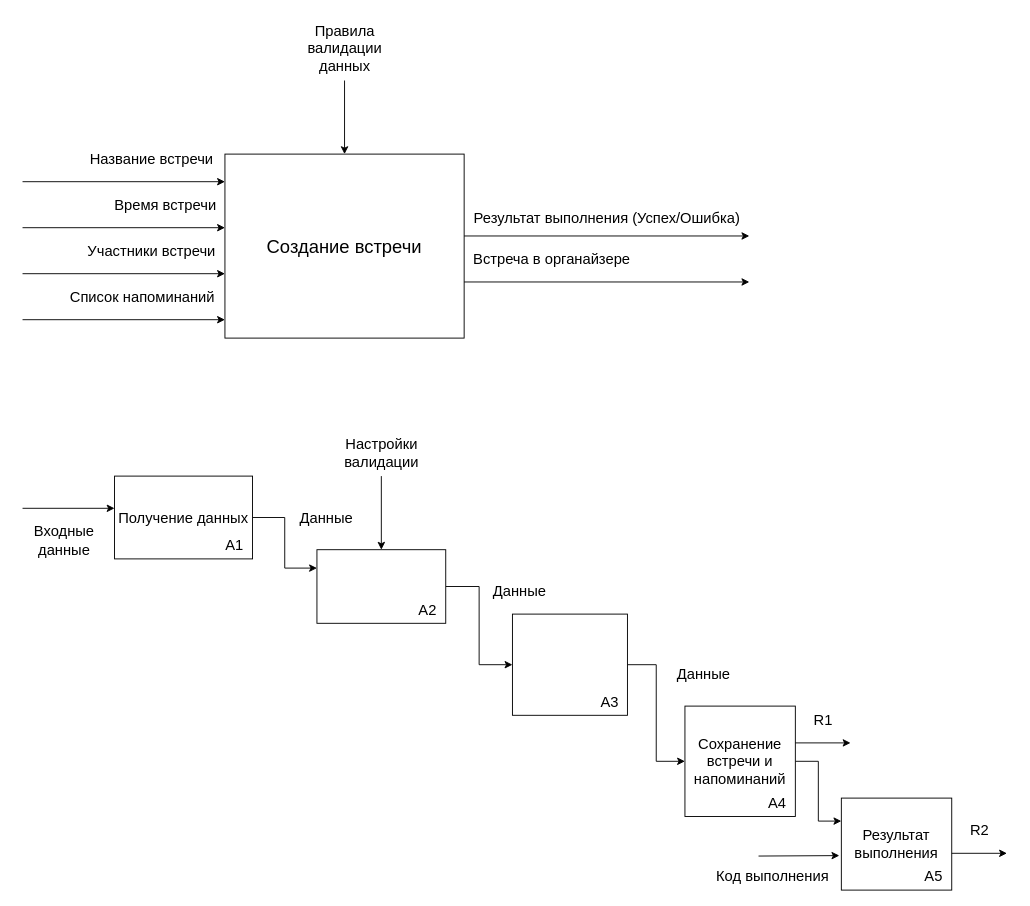
The diagram is 1030 pixels wide and 906 high, and some of its shapes have lost their labels. Here are the shapes that lost their labels. From the top down, the box of each, then its label:
(316, 549, 446, 623): Проверка данных
(512, 613, 627, 715): Подготовить данные к сохранению
